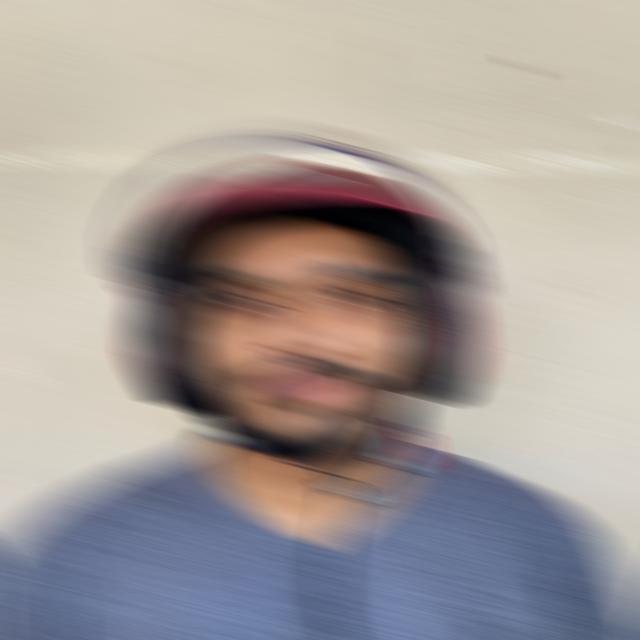With Helmet: (104, 120, 487, 414)
